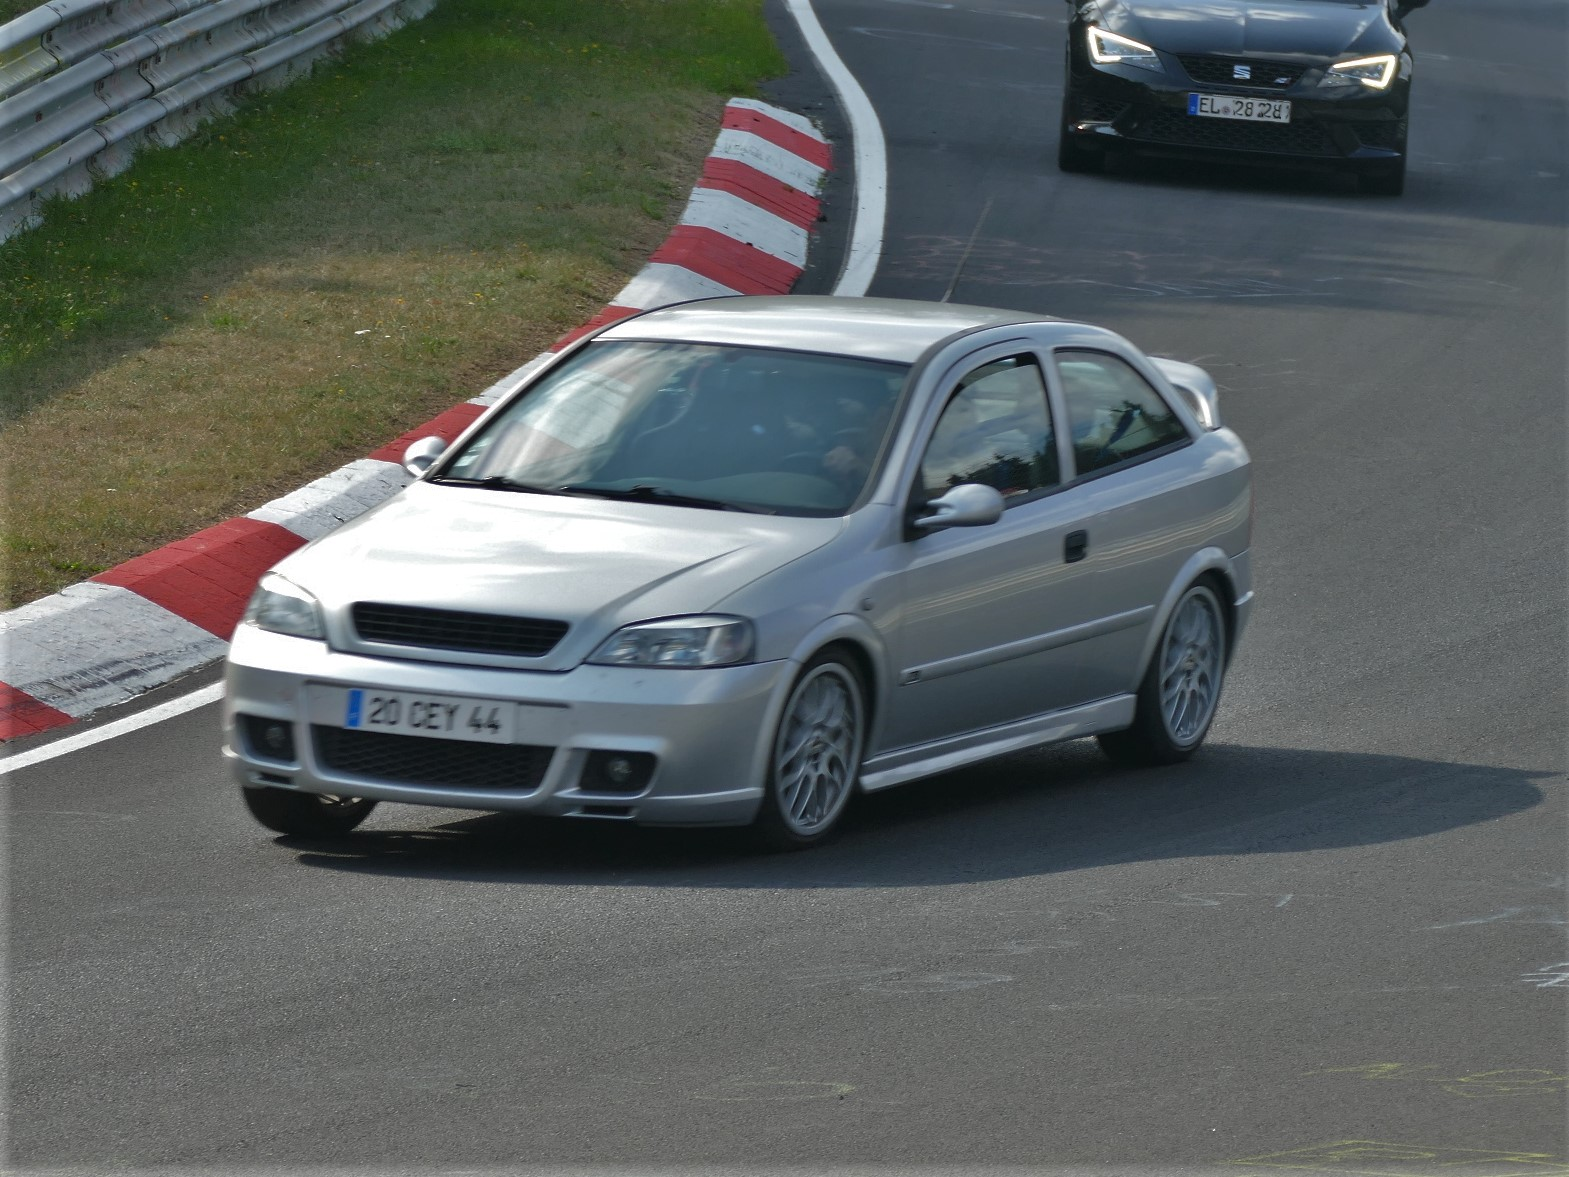licence plate: (344, 688, 518, 745)
